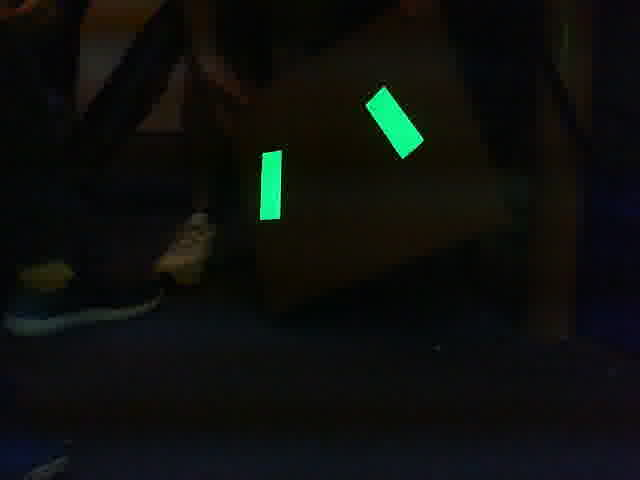target: (257, 85, 428, 221)
